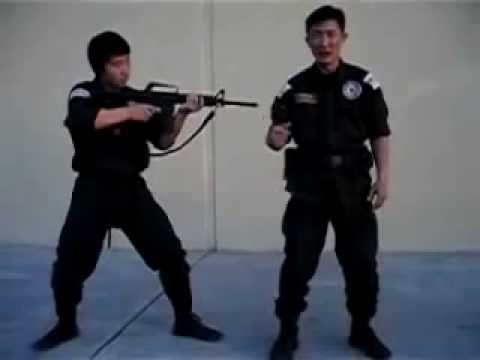Rifle: (106, 82, 259, 129)
